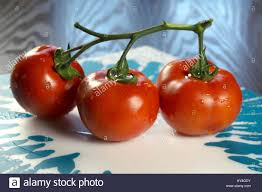tomato: (159, 58, 243, 136), (77, 68, 160, 143), (10, 45, 84, 120)
